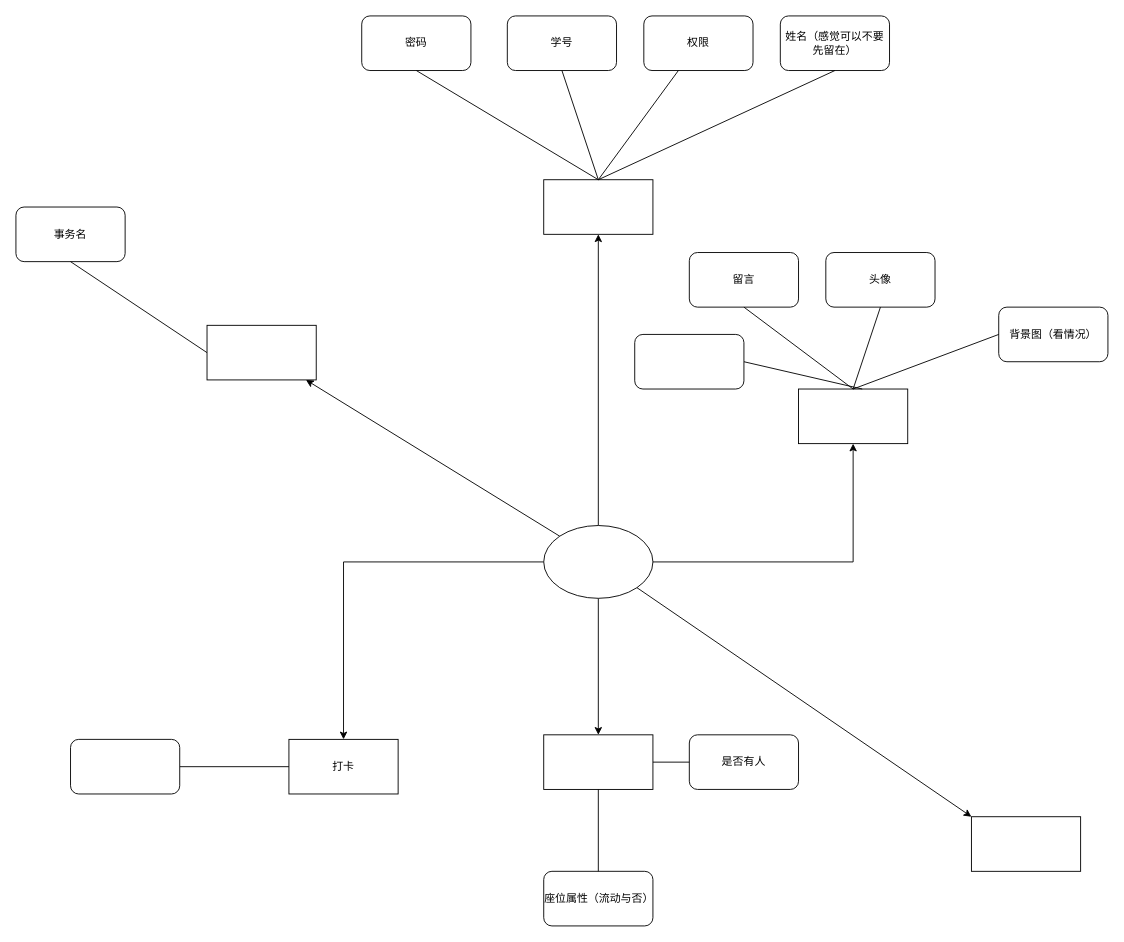
This 1124x942 diagram has some shape labels left out. The centre of each missing label's shape, as x and y in pixels:
Tomatoos: pixel 598 561
个人简介: pixel 853 416
事务: pixel 261 352
座位: pixel 598 761
打卡次数: pixel 125 766
账户: pixel 598 206
